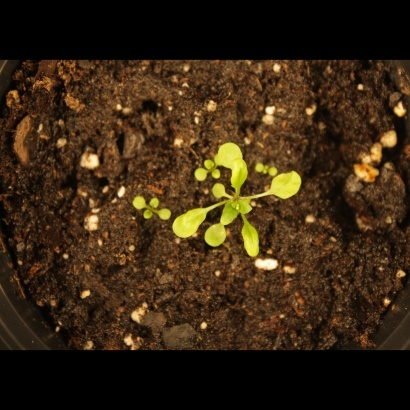leaf: (266, 168, 310, 205), (170, 205, 208, 240), (212, 140, 252, 172), (238, 221, 263, 262), (229, 153, 253, 194), (216, 197, 246, 225), (205, 222, 230, 249), (125, 190, 148, 213), (154, 202, 177, 225), (205, 180, 228, 203), (191, 164, 214, 187)
